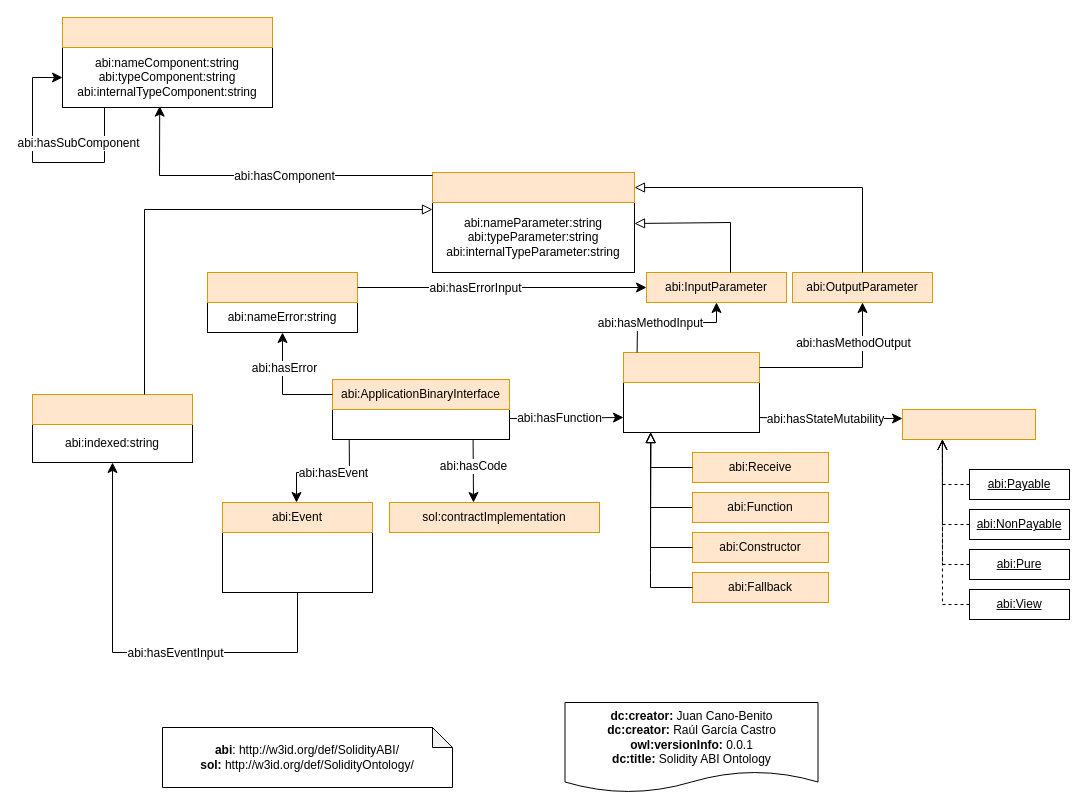
Some shapes in this 1087 by 810 pixel diagram are drawn without their labels. Here are the shapes that lost their labels. From the top down, the centre of each, then its label:
At [167,32]: "abi:Component".
At [533,187]: "abi:Parameter".
At [282,287]: "abi:Error".
At [691,367]: "abi:Method".
At [112,409]: "abi:InputEvent".
At [421,424]: "abi:address:string".
At [691,407]: "abi:nameMethod:string abi:isConstant:boolean".
At [969,424]: "abi:StateMutability".
At [297,562]: "abi:nameEvent:string abi:isAnonymous:boolean".
